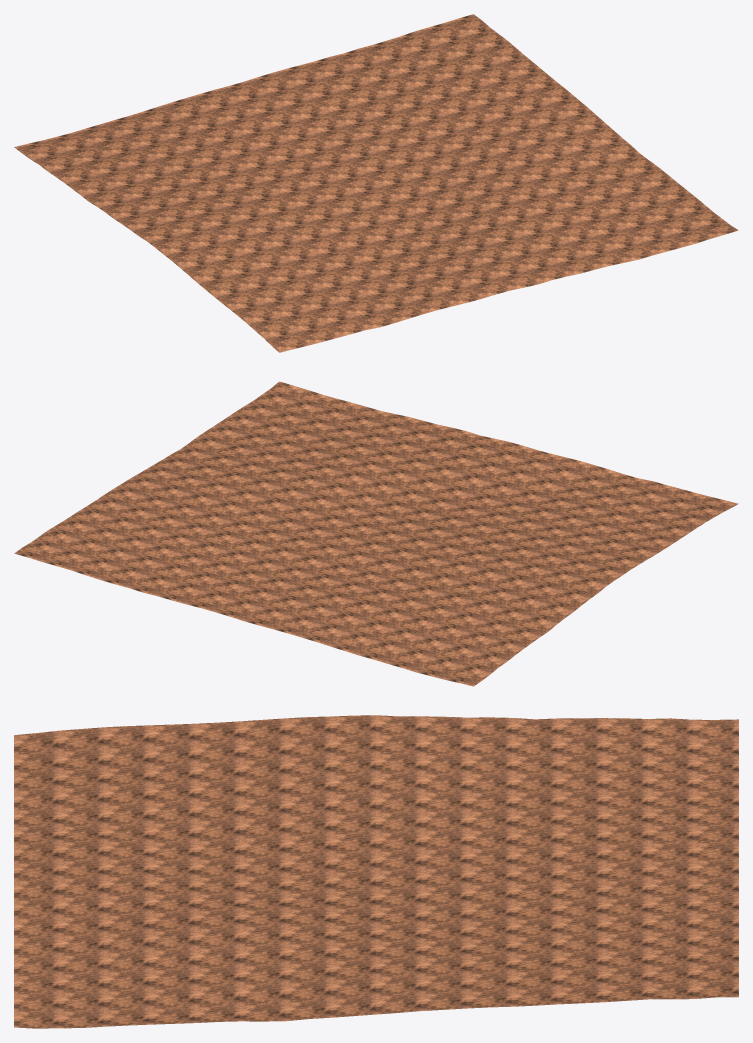
Rendered from terrain_08_20.dae.
3 views of the same model, one above another, from view 1: azimuth 30°, elevation 25°; view 2: azimuth 150°, elevation 25°; view 3: azimuth 270°, elevation 25° (orthographic). The views are drawn at different scales.
Visible parts, largest first — view 1: terrain_08_20-node; view 2: terrain_08_20-node; view 3: terrain_08_20-node.
Part boxes in pixels (<box>): terrain_08_20-node: <box>14,14,738,352</box>; terrain_08_20-node: <box>14,381,738,686</box>; terrain_08_20-node: <box>14,715,738,1028</box>.
Bounding box in the file's own units: 128 × 128 × 8.62.
1 material, 1 textured.
